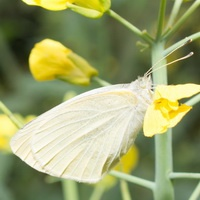insect: (11, 76, 199, 182)
